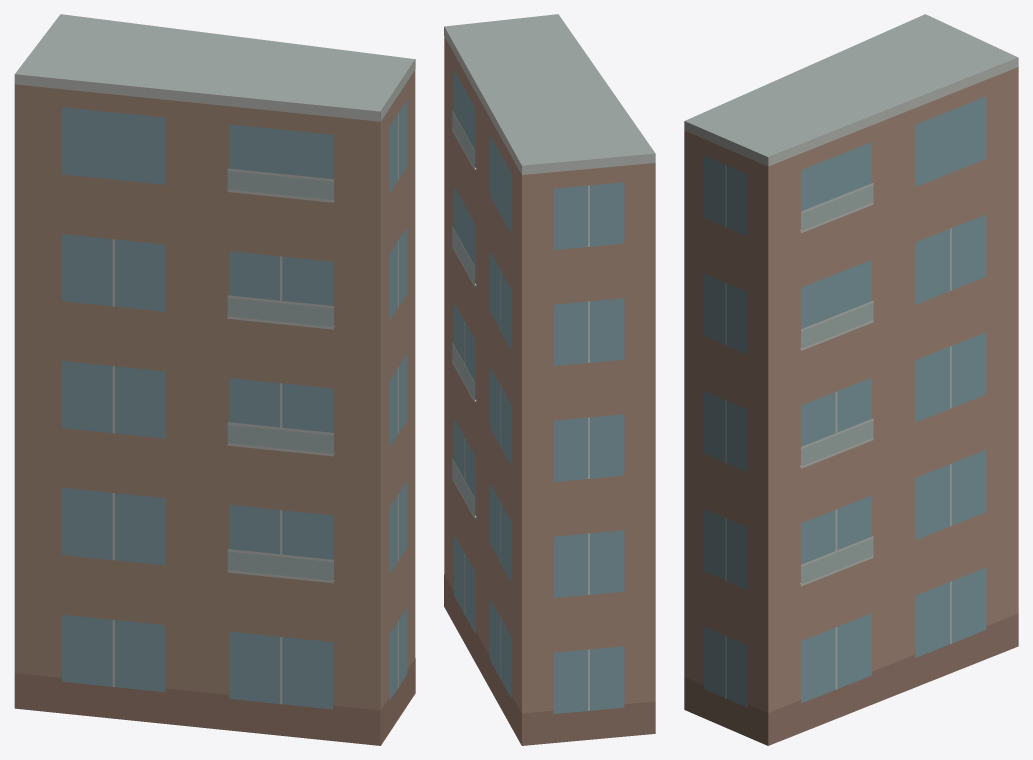
File: survey-upis-32592802.glb
The picture shows the model from 3 angles, left to right: view 1: azimuth 30°, elevation 25°; view 2: azimuth 150°, elevation 25°; view 3: azimuth 270°, elevation 25°; orthographic projection. The views are drawn at different scales.
Visible parts, largest first — view 1: survey-upis-32592802.tmp; view 2: survey-upis-32592802.tmp; view 3: survey-upis-32592802.tmp.
Part boxes in pixels (x1,y1,x2,y2): survey-upis-32592802.tmp: (14,14,415,745); survey-upis-32592802.tmp: (444,14,655,745); survey-upis-32592802.tmp: (684,14,1018,745).
Size of the model in its own units: 7.96 by 15.25 by 7.85.
